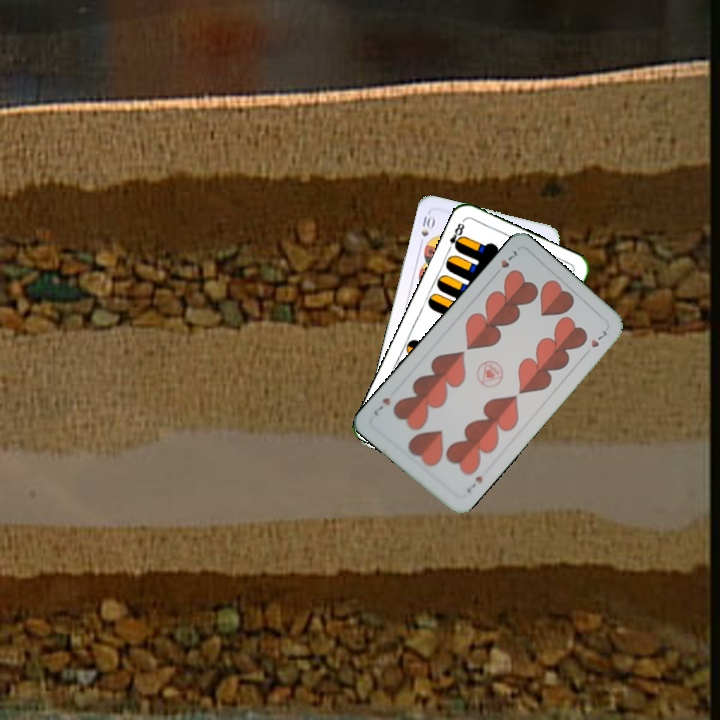E8: (443, 219, 467, 254)
H7: (491, 246, 520, 279), (462, 472, 486, 496)
S10: (417, 209, 437, 249)
